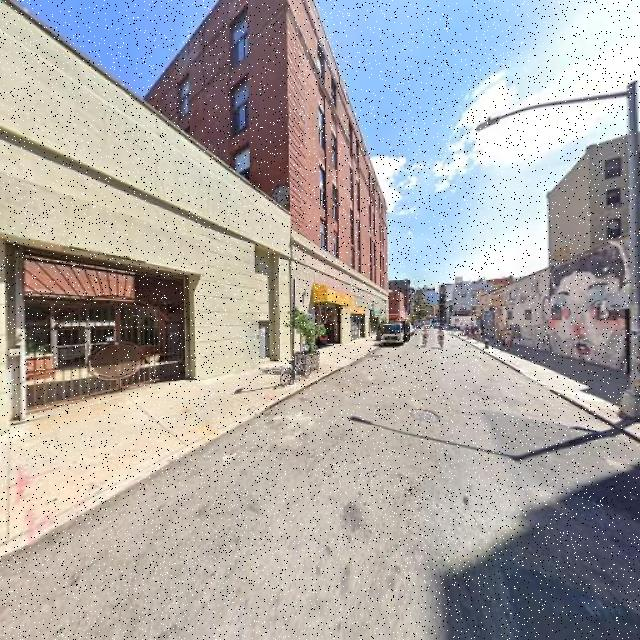Building: (1, 1, 387, 432)
